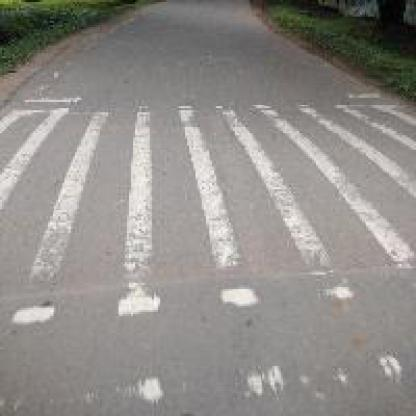Speed Bump: (2, 98, 414, 414)
